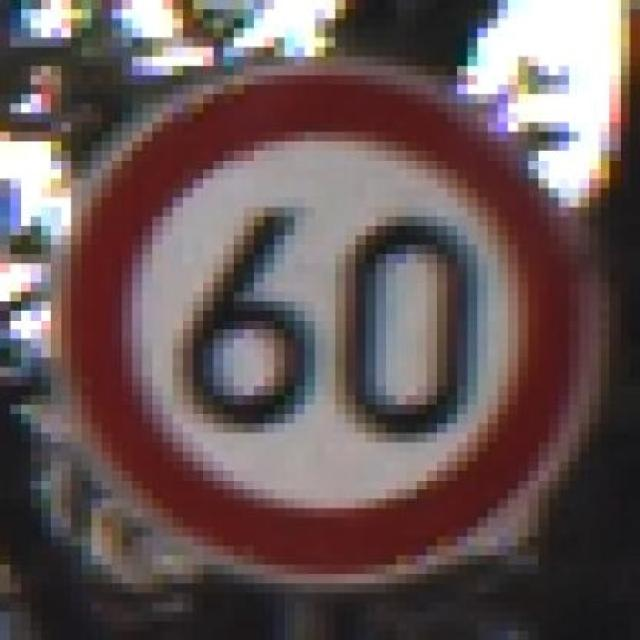forb_speed_over_60: (60, 71, 588, 568)
